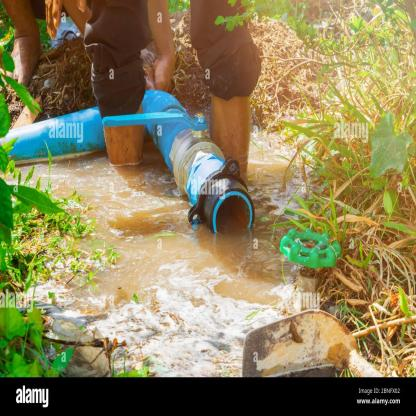PVC: (141, 88, 252, 235), (4, 107, 107, 161)
